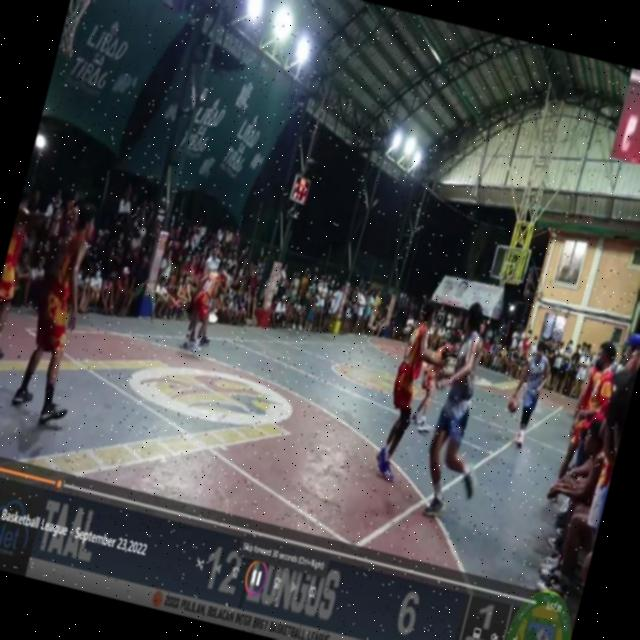ball: (504, 394, 520, 416)
hoop: (496, 266, 511, 278)
